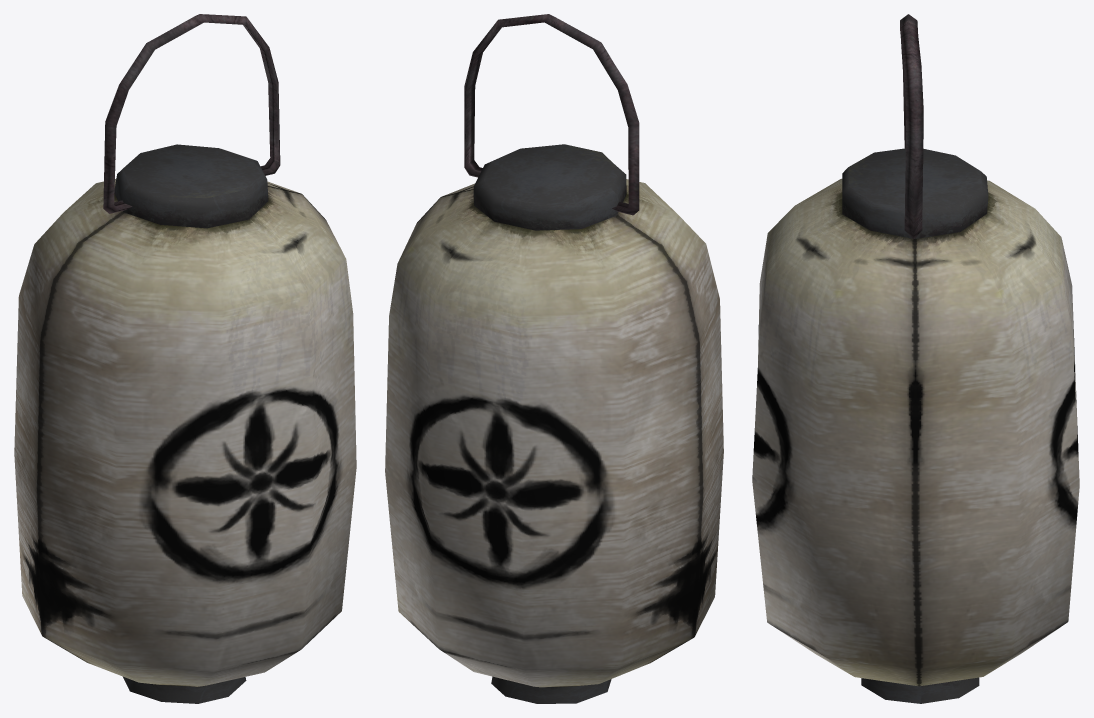
The model's file is PRP_LanternC.FBX.
3 views of the same model, side by side, from view 1: azimuth 30°, elevation 25°; view 2: azimuth 150°, elevation 25°; view 3: azimuth 270°, elevation 25° (orthographic).
Parts seen in each view (by area): view 1: AntVillageBits_Lantern; view 2: AntVillageBits_Lantern; view 3: AntVillageBits_Lantern.
Boxes of the visible parts, bbox=[...] form: AntVillageBits_Lantern: bbox=[14, 14, 356, 703]; AntVillageBits_Lantern: bbox=[385, 14, 723, 703]; AntVillageBits_Lantern: bbox=[752, 14, 1079, 703].
Size of the model in its own units: 22.98 by 49.35 by 22.22.
Materials: 1 (1 with a texture image).
